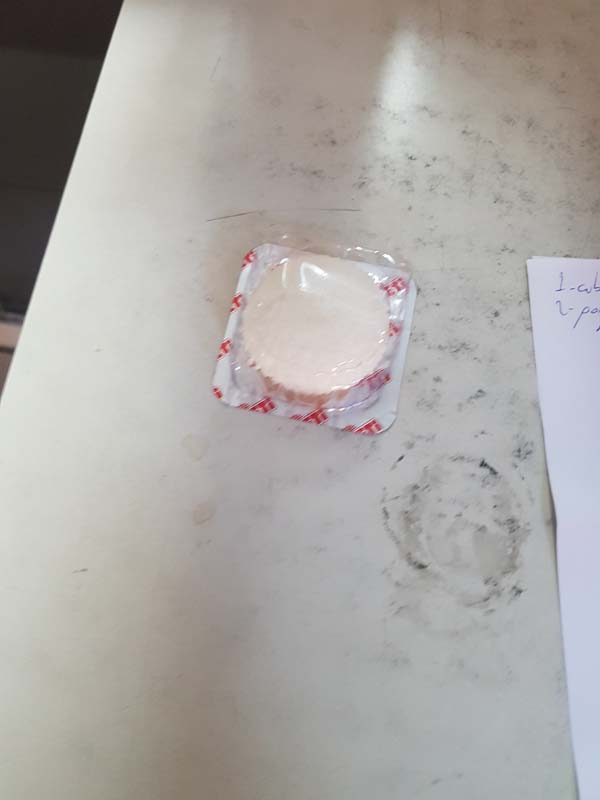etipuf: (215, 242, 420, 439)
